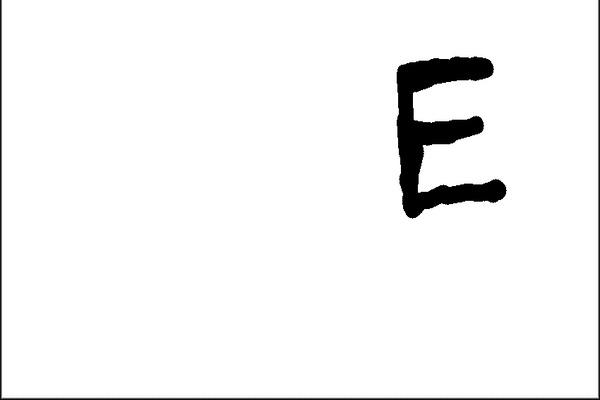E: (387, 51, 510, 221)
